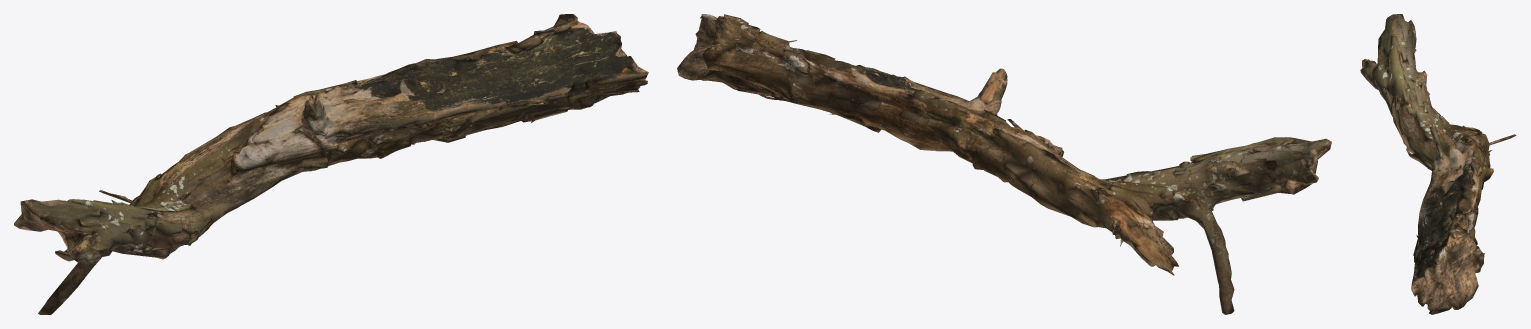
File: dead_tree_trunk_02.glb
3 renders of one model, left to right at view 1: azimuth 30°, elevation 25°; view 2: azimuth 150°, elevation 25°; view 3: azimuth 270°, elevation 25°, orthographic. The views are drawn at different scales.
Parts seen in each view (by area): view 1: dead_tree_trunk_02; view 2: dead_tree_trunk_02; view 3: dead_tree_trunk_02.
Part boxes in pixels (x1,y1,x2,y2): dead_tree_trunk_02: (14,14,648,314); dead_tree_trunk_02: (677,14,1331,314); dead_tree_trunk_02: (1360,14,1516,314).
Size of the model in its own units: 4.05 by 1.05 by 1.05.
1 material, 1 textured.
